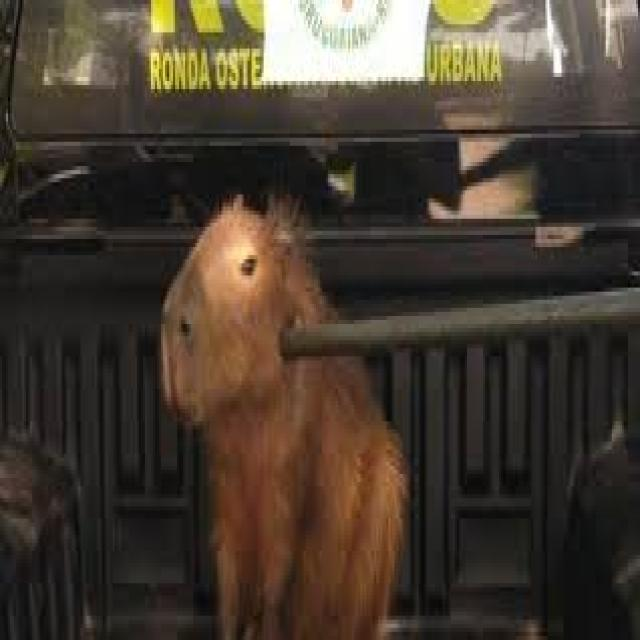capy: (155, 182, 411, 640)
